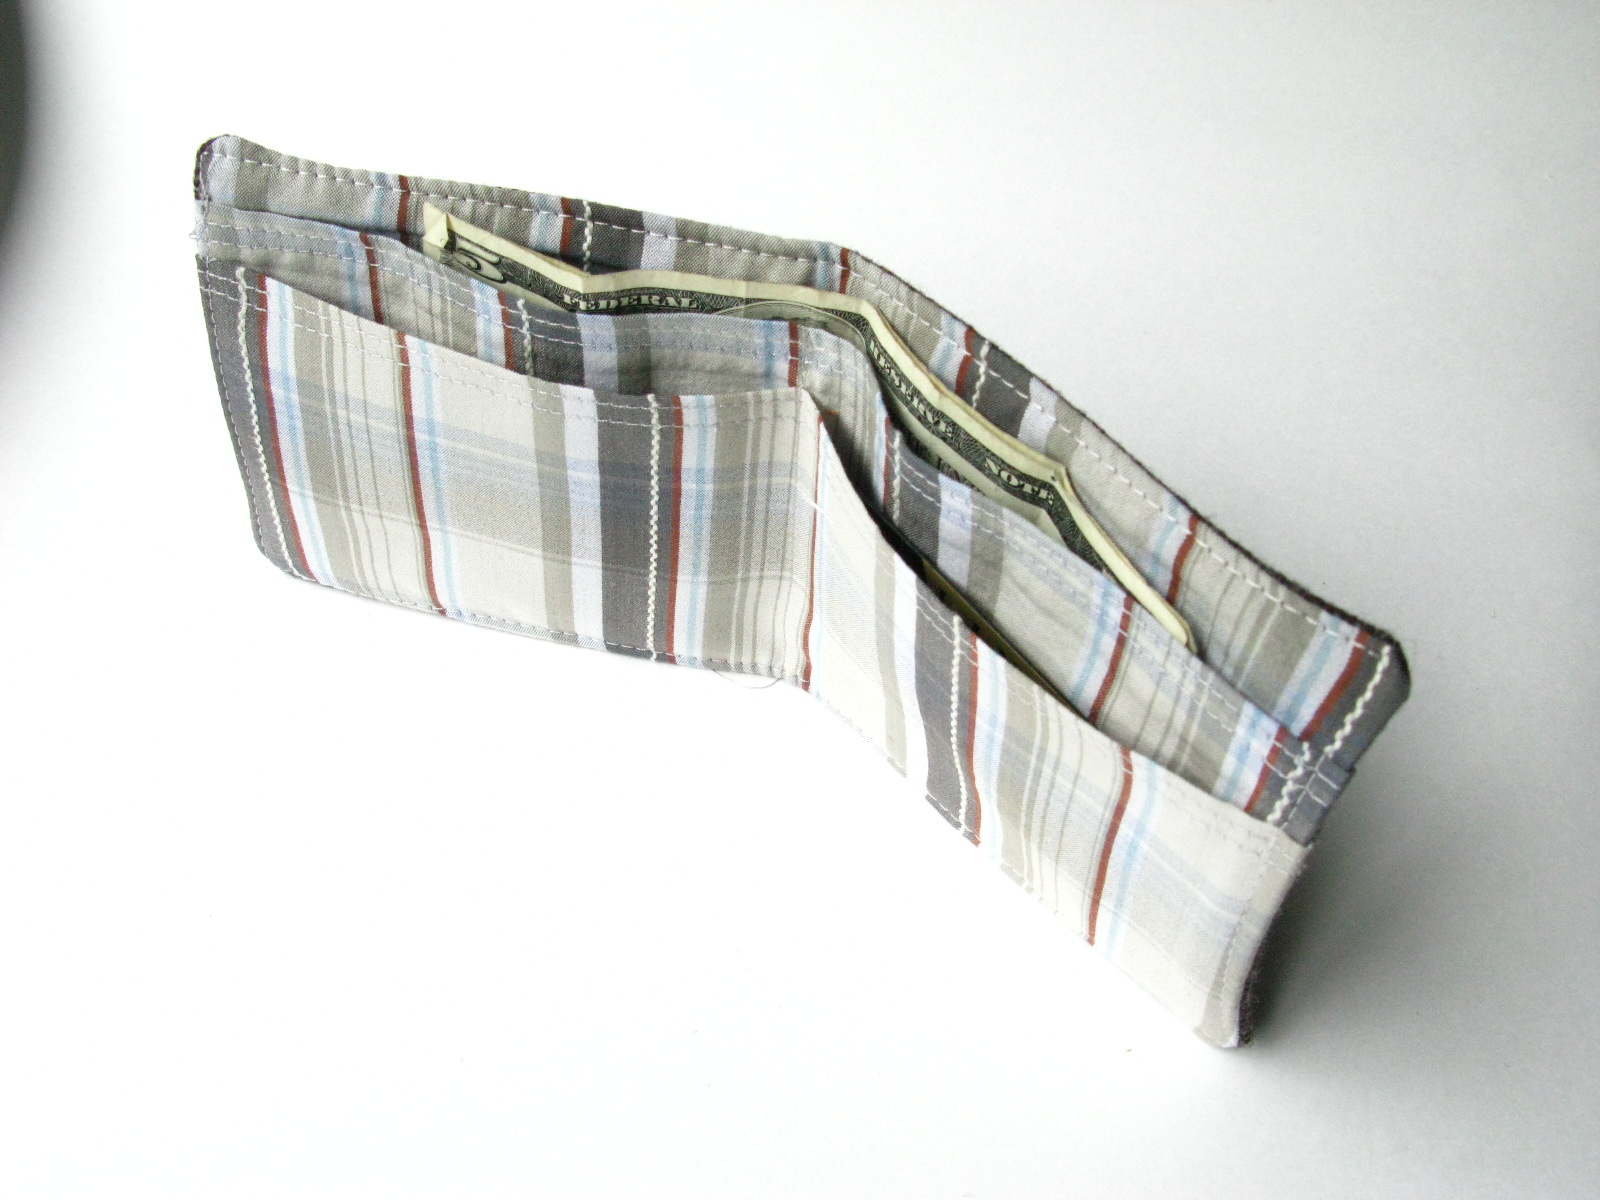monedero: (185, 126, 1422, 1061)
